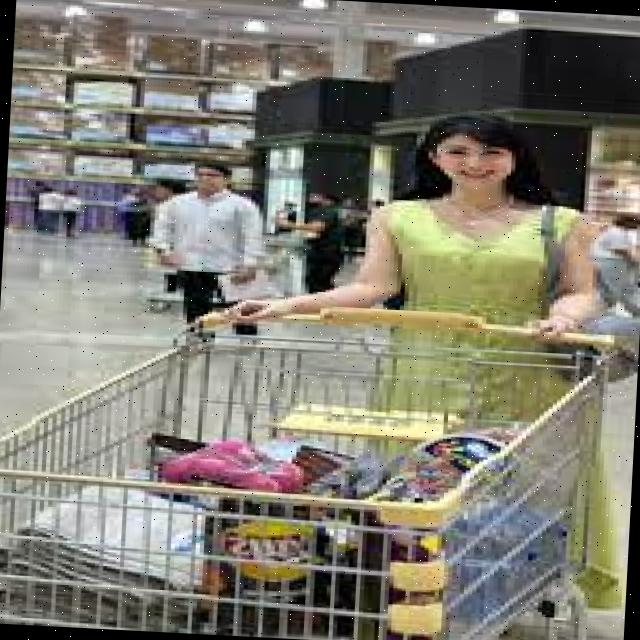Person: (219, 97, 640, 611), (144, 157, 272, 349)
